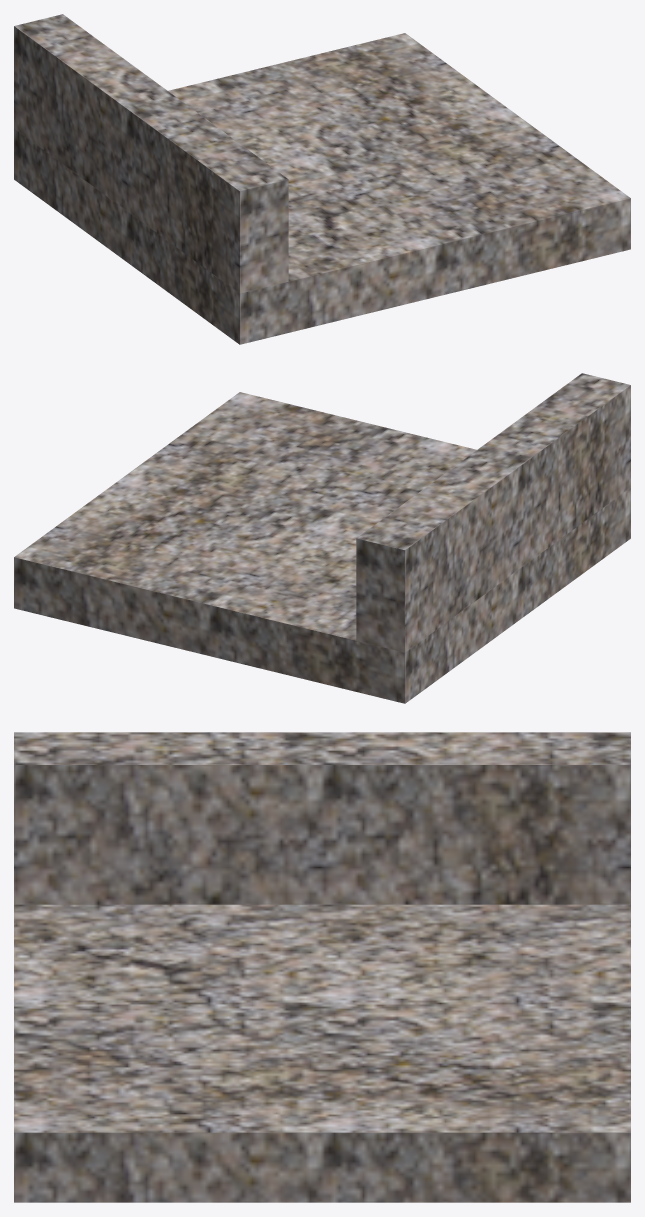
Rendered from nyc_subway_bench_4a.obj.
3 renders of one model, top to bottom at view 1: azimuth 30°, elevation 25°; view 2: azimuth 150°, elevation 25°; view 3: azimuth 270°, elevation 25°, orthographic. The views are drawn at different scales.
Visible parts, largest first — view 1: cube; view 2: cube; view 3: cube.
Part boxes in pixels (x1,y1,x2,y2): cube: [14, 14, 630, 344]; cube: [14, 373, 630, 703]; cube: [14, 732, 630, 1202].
Bounding box in the file's own units: 1 × 0.375 × 1.
1 material, 1 textured.
